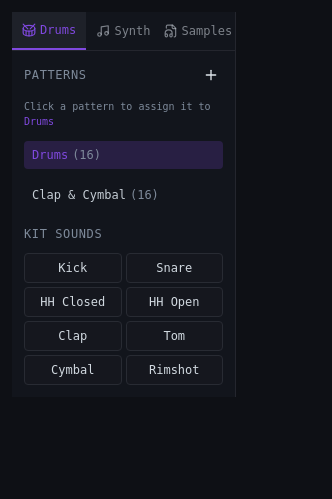
Test: InstrumentSidebar › renders a synth tab when a SynthPanel is provided
Click the button "Synth": (123, 31) 86,12 -> 161,50
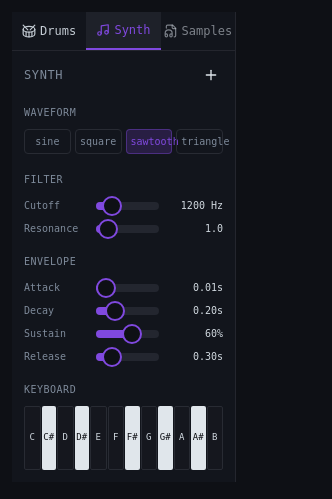
Expected: the text "Waveform" is shown, 24,107 -> 76,118
Expected: the text "Envelope" is shown, 24,256 -> 76,267
Expected: the text "Keyboard" is shown, 24,384 -> 76,395
